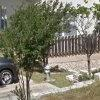Tree: (5, 2, 66, 67)
